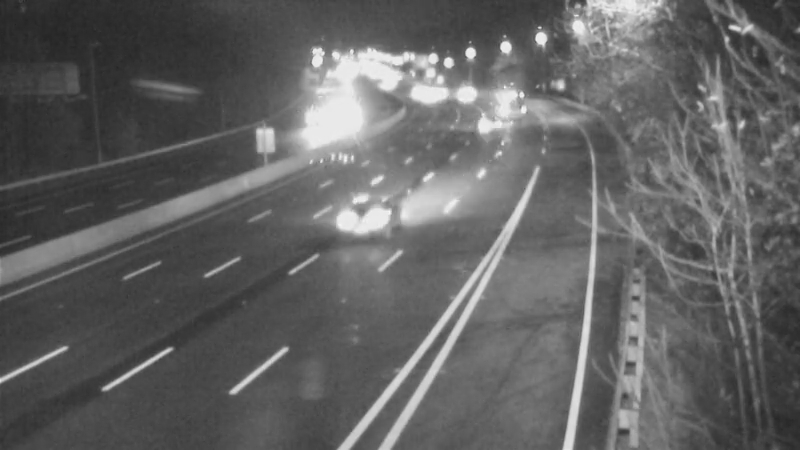vehicle: (328, 173, 408, 253), (420, 67, 470, 117), (439, 68, 489, 118), (483, 81, 533, 131), (470, 102, 520, 152), (285, 99, 335, 149)
